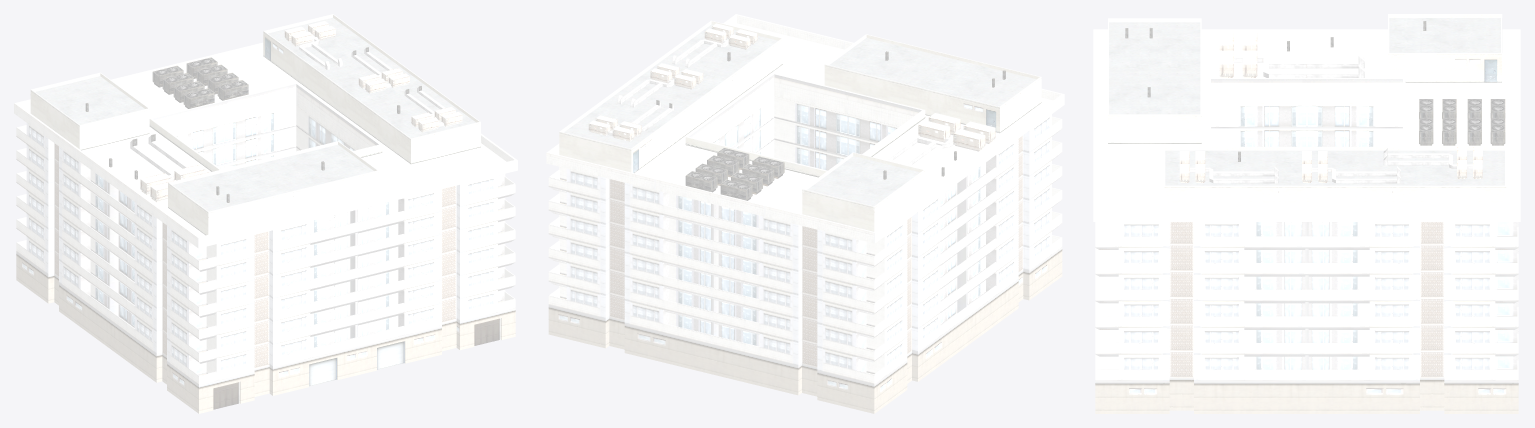
File: LOWRISEMODERNCONDO2.fbx
3 views of the same model, side by side, from view 1: azimuth 30°, elevation 25°; view 2: azimuth 150°, elevation 25°; view 3: azimuth 270°, elevation 25° (orthographic). The views are drawn at different scales.
Visible parts, largest first — view 1: LOWRISEMODERNCONDO2; view 2: LOWRISEMODERNCONDO2; view 3: LOWRISEMODERNCONDO2.
Part boxes in pixels (left/top/right/bottom): LOWRISEMODERNCONDO2: left=14, top=14, right=517, bottom=413; LOWRISEMODERNCONDO2: left=546, top=14, right=1064, bottom=413; LOWRISEMODERNCONDO2: left=1093, top=14, right=1520, bottom=413.
Bounding box in the file's own units: 4360 × 2600 × 4360.
